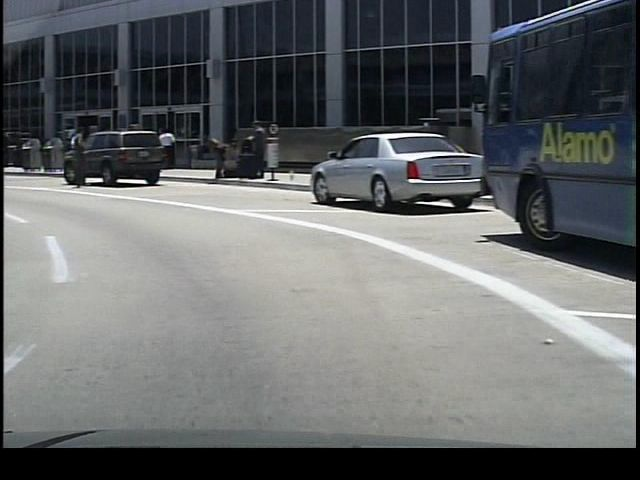person: (63, 117, 92, 195), (204, 131, 233, 185), (242, 120, 262, 181), (152, 127, 174, 171)
